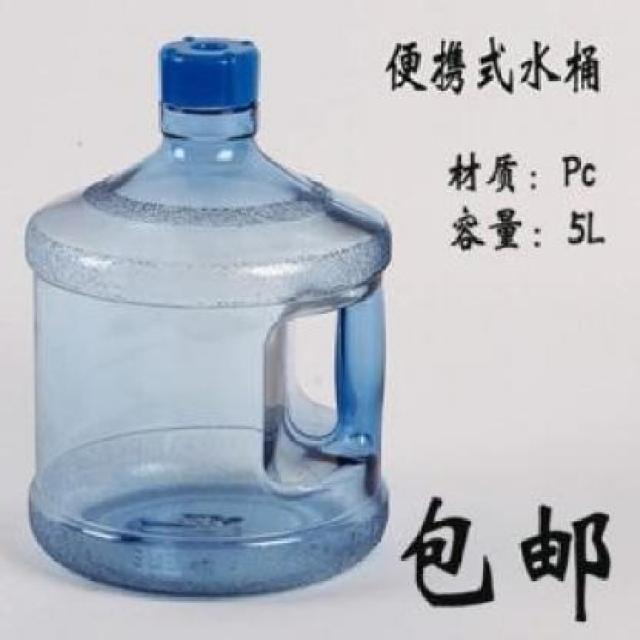coolerbottle: (21, 31, 398, 605)
